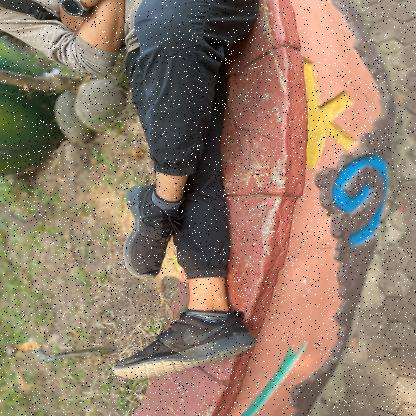leg: (70, 270, 298, 386), (84, 130, 194, 286)
